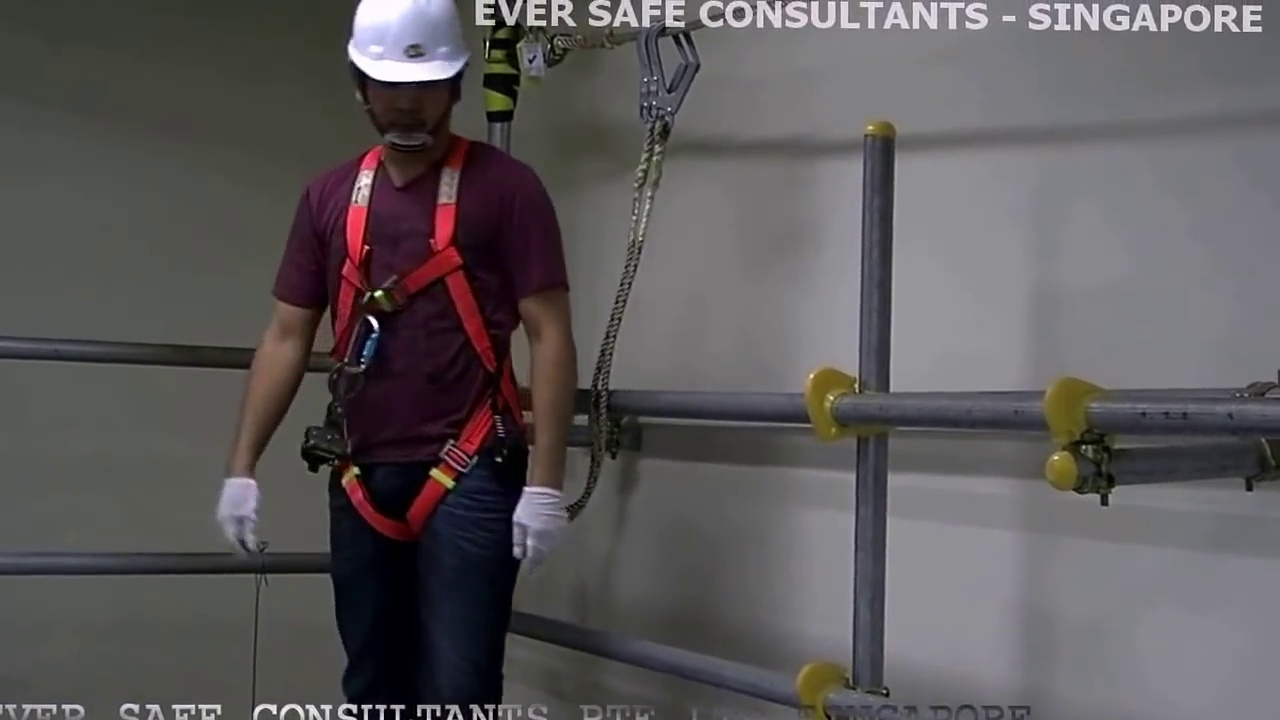harness: (333, 150, 491, 519)
helmet: (343, 1, 468, 78)
hook: (627, 26, 703, 113)
leash: (577, 146, 681, 512)
